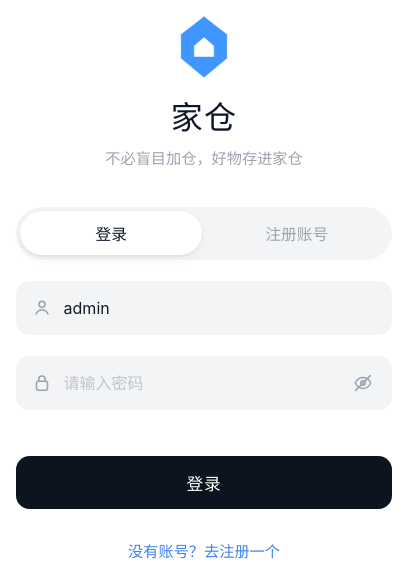
登录页 › shows API field errors from the backend
Check: the button "登录" is shown, box [16,456,392,509]
Type "badpass" into the password field labelled "密码". click: (204, 383)
box: [64,357,344,410]
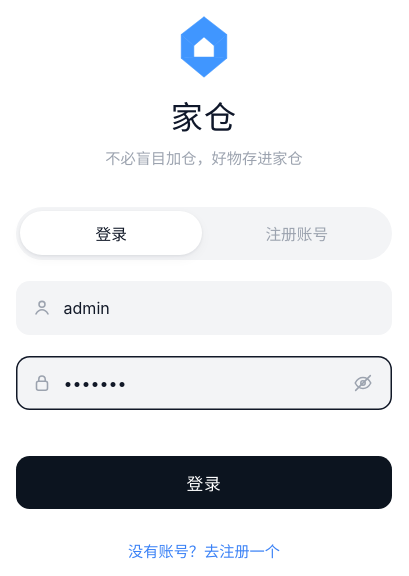
Click the button "登录". click: (204, 482)
box: [16,456,392,509]
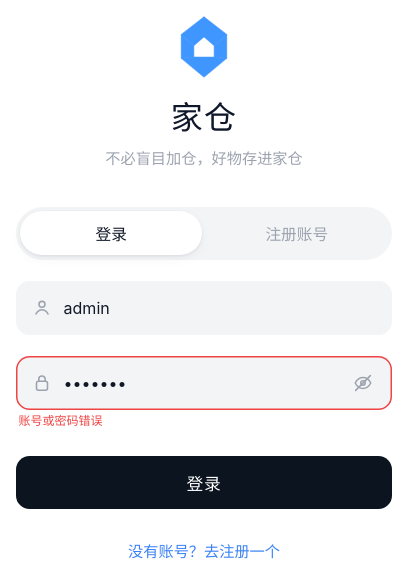
Check: the text "账号或密码错误" is shown, box [18,413,102,428]
